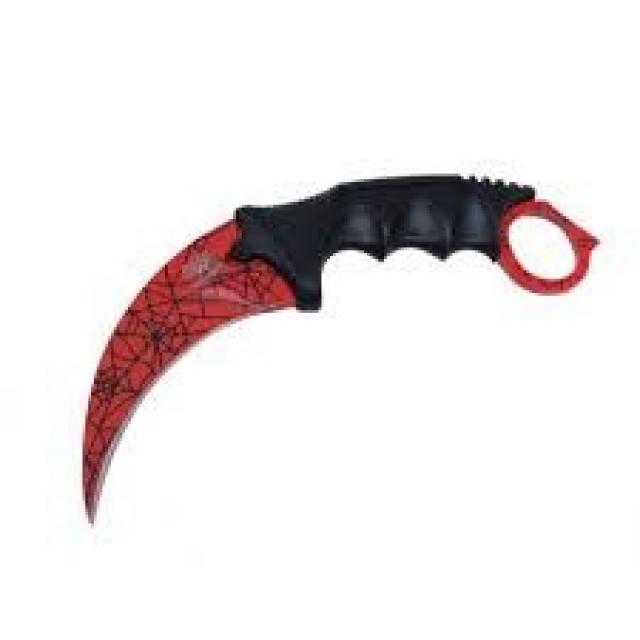knife: (69, 160, 604, 529)
